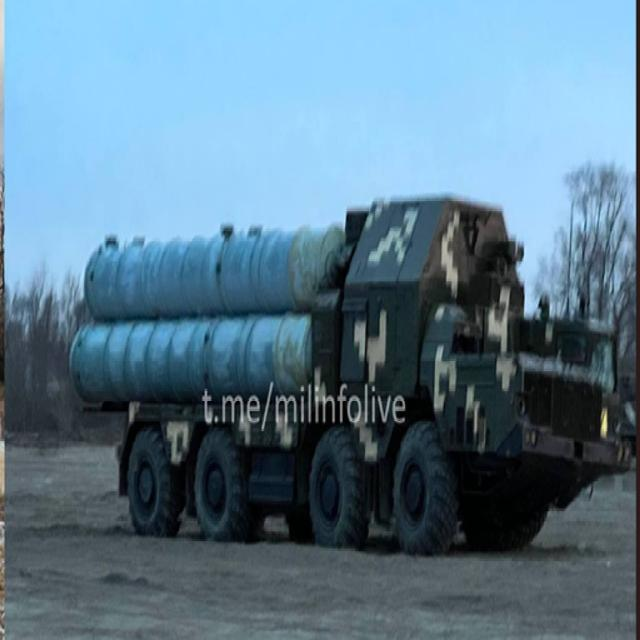MLRS: (53, 187, 632, 562)
